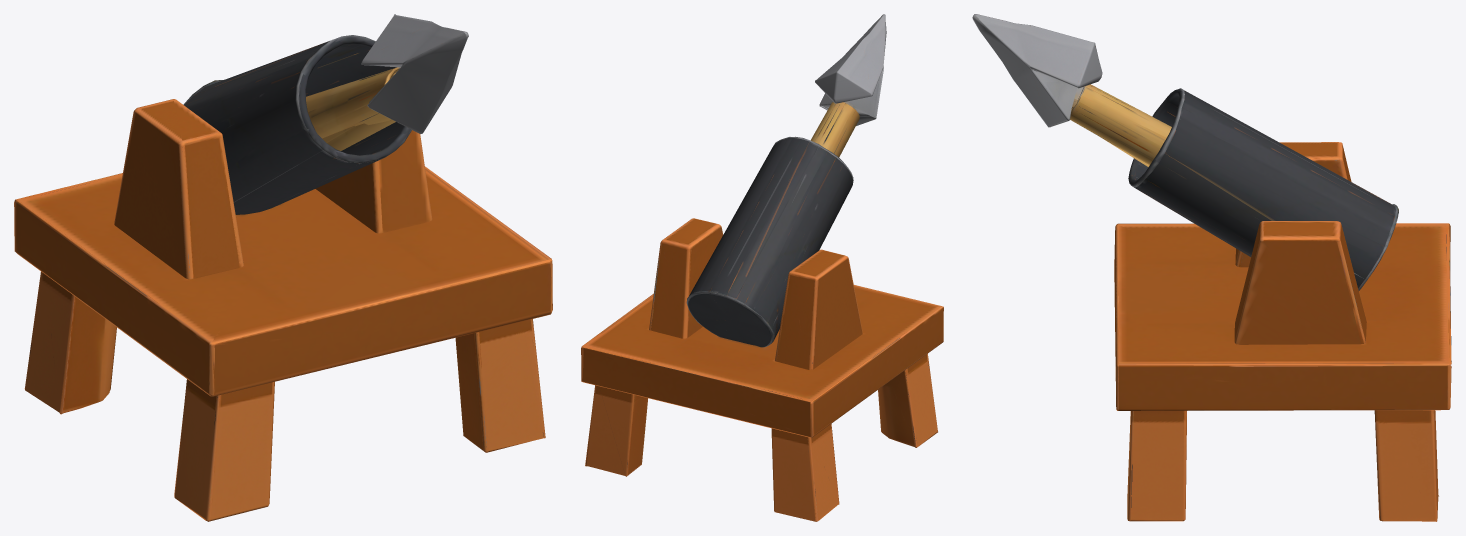
Rendered from harpoonTower.glb.
3 renders of one model, left to right at view 1: azimuth 30°, elevation 25°; view 2: azimuth 150°, elevation 25°; view 3: azimuth 270°, elevation 25°, orthographic. The views are drawn at different scales.
Size of the model in its own units: 0.7031 by 1 by 0.9961.
1 material, 1 textured.
